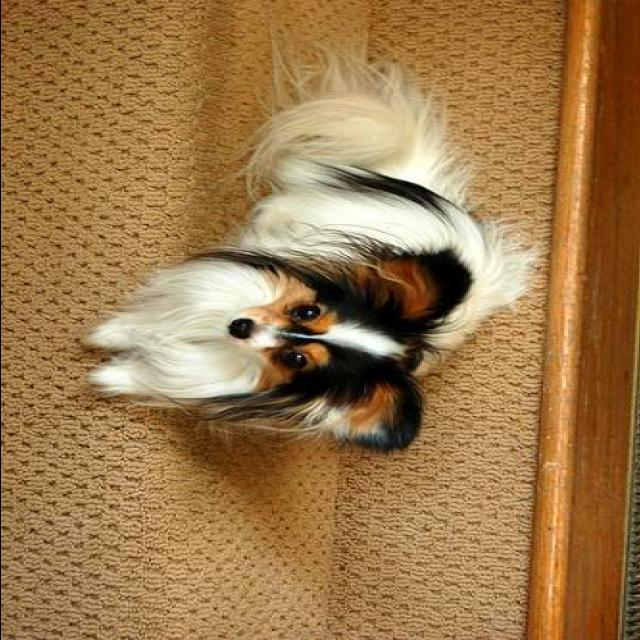papillon: (82, 37, 538, 455)
